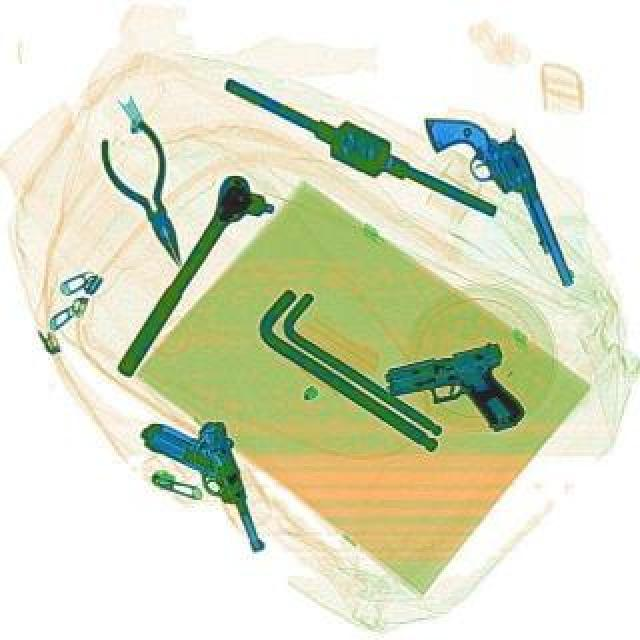gun: (420, 92, 576, 310), (136, 402, 274, 572), (378, 340, 526, 452)
wrench: (90, 116, 210, 274)
